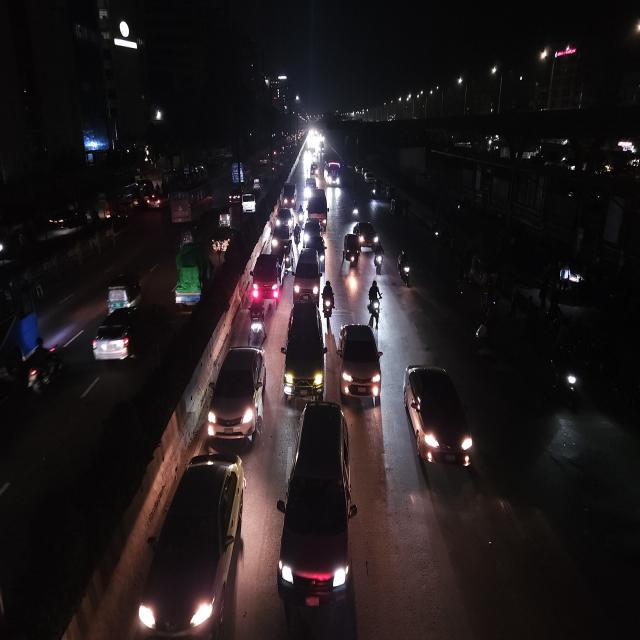bus: (167, 178, 214, 225), (322, 152, 343, 190)
car: (136, 448, 247, 640), (278, 399, 356, 621), (400, 358, 476, 477), (205, 342, 268, 445), (281, 296, 328, 402), (336, 320, 384, 407), (90, 306, 140, 371), (250, 248, 286, 310), (0, 220, 38, 262), (294, 245, 320, 302), (47, 207, 89, 234), (306, 189, 330, 230), (355, 218, 380, 248), (272, 205, 294, 236), (240, 190, 260, 216), (217, 205, 233, 227), (228, 184, 243, 203), (304, 176, 318, 194)
cng: (101, 268, 145, 316), (343, 232, 361, 272)
motorcycle: (23, 338, 65, 399), (366, 277, 384, 327), (248, 298, 267, 344), (395, 247, 413, 290), (324, 277, 336, 324), (371, 244, 386, 278), (350, 196, 361, 220), (294, 221, 302, 250)
pickup_van: (171, 241, 212, 315)
